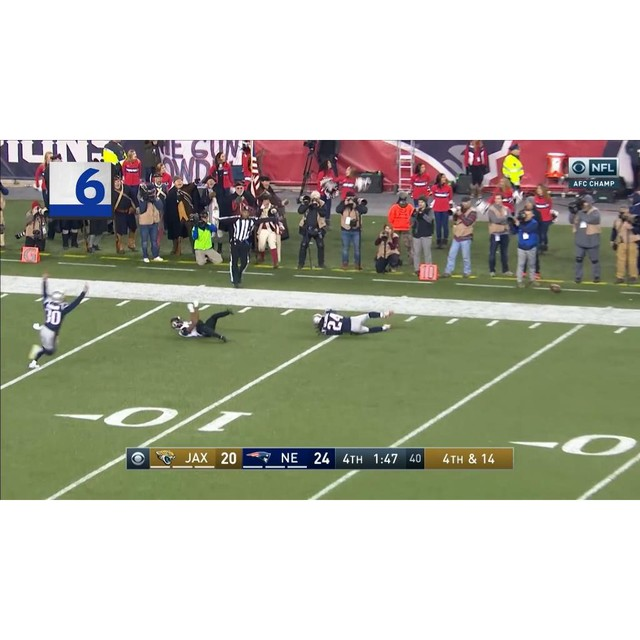american-football-player: (27, 285, 89, 371), (171, 301, 234, 341), (313, 309, 394, 336)
